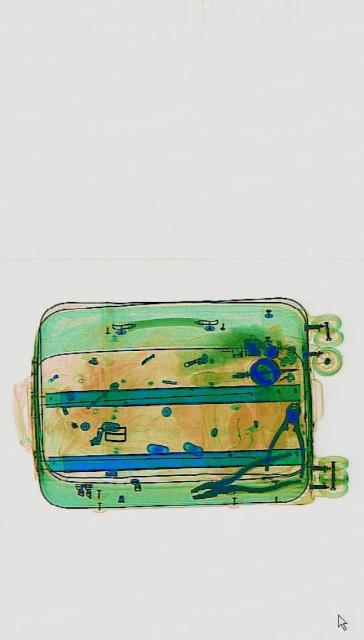Pliers: (187, 449, 292, 509), (262, 394, 311, 484)
